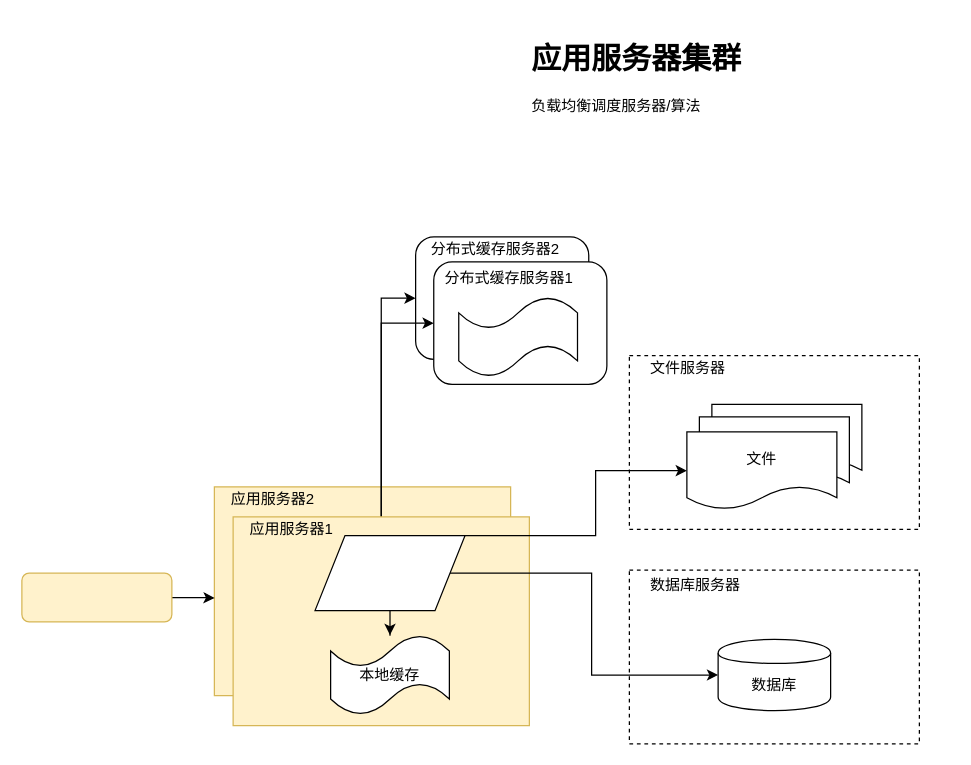
Image size: 971x765. Some labels were removed from this diagram. Here are the shapes that lost their labels. From the top down, the centre of each, then its label:
point (518, 336): 远程分布式缓存
point (389, 572): 应用程序
point (96, 597): 负载均衡调度服务器
